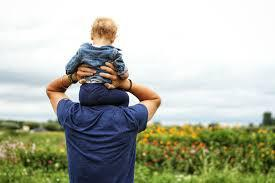child: (60, 18, 140, 102)
